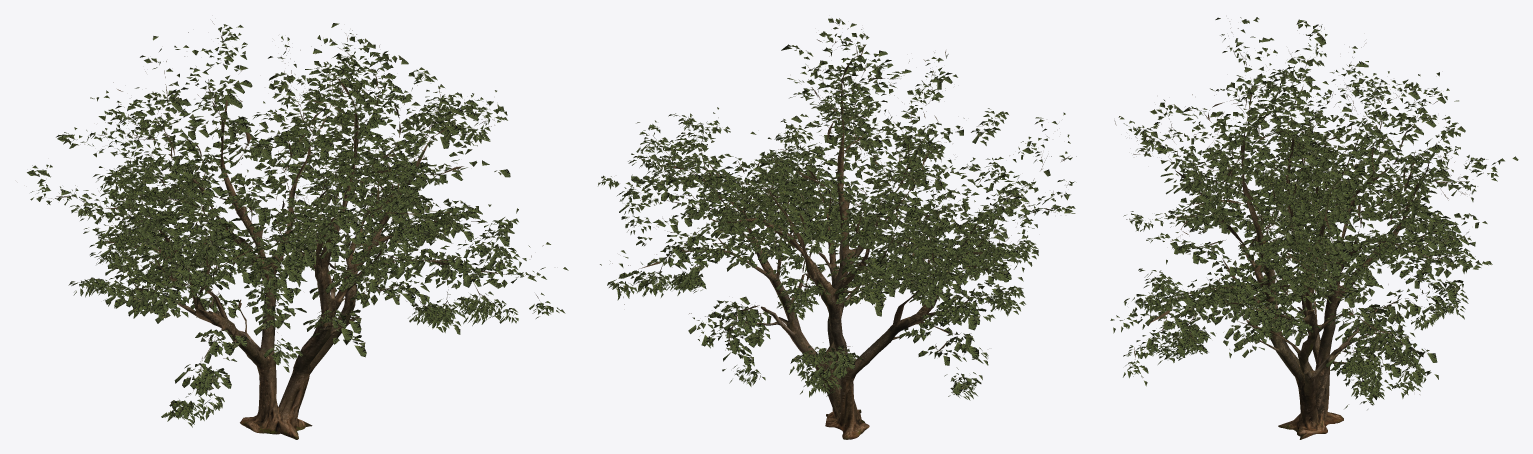
The model's file is broadleaf-jacaranda.glb.
3 views of the same model, side by side, from view 1: azimuth 30°, elevation 25°; view 2: azimuth 150°, elevation 25°; view 3: azimuth 270°, elevation 25° (orthographic). The views are drawn at different scales.
Parts seen in each view (by area): view 1: jacaranda_tree_LOD0; view 2: jacaranda_tree_LOD0; view 3: jacaranda_tree_LOD0.
Boxes of the visible parts, x1=… form: jacaranda_tree_LOD0: x1=27, y1=21, x2=568, y2=439; jacaranda_tree_LOD0: x1=598, y1=18, x2=1076, y2=439; jacaranda_tree_LOD0: x1=1110, y1=17, x2=1518, y2=439.
Bounding box in the file's own units: 23.7 × 19.33 × 18.85.
Materials: 3 (3 with a texture image).
